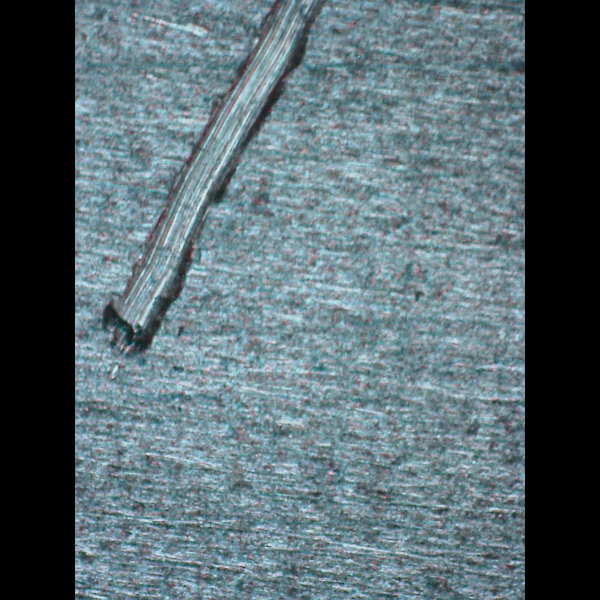d: (100, 0, 331, 358)
